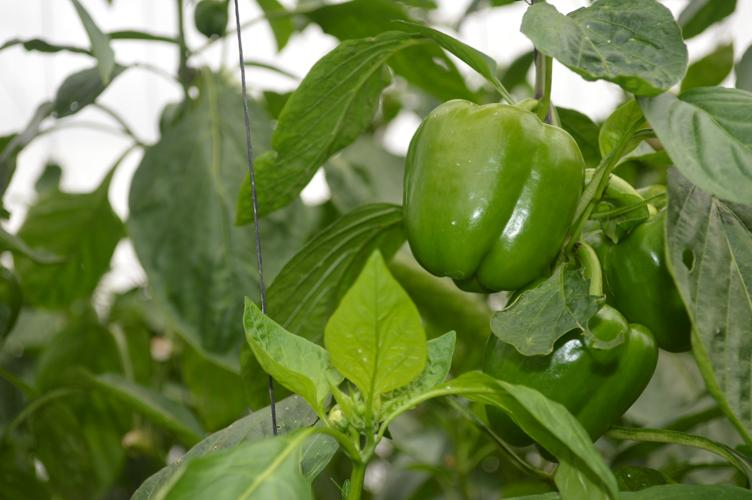BellPepper: (401, 97, 579, 284), (477, 306, 658, 459), (603, 201, 701, 352)
